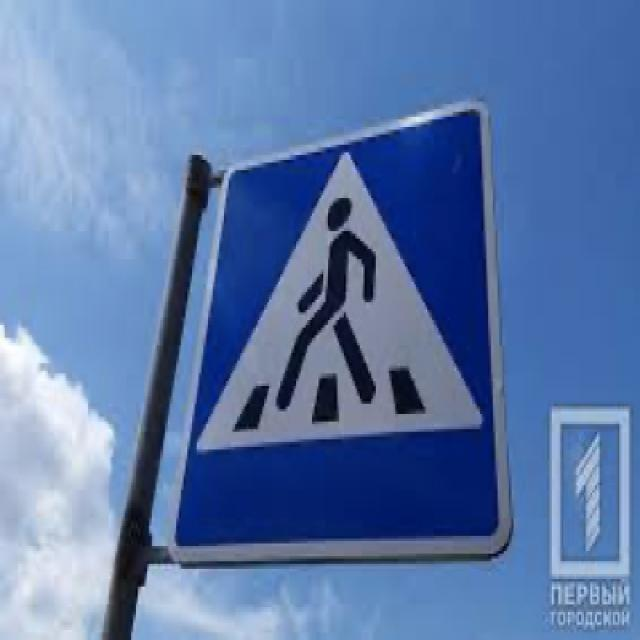crosswalk_sign: (166, 95, 517, 568)
